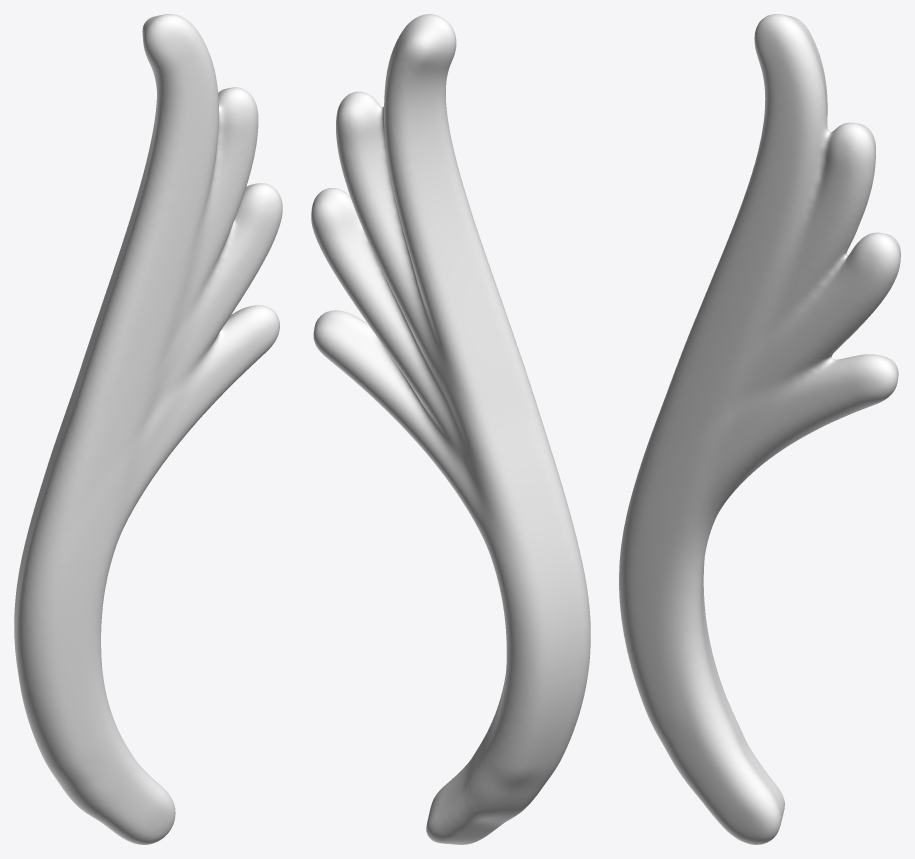
The model's file is callout leaf top.glb.
The picture shows the model from 3 angles, left to right: view 1: azimuth 30°, elevation 25°; view 2: azimuth 150°, elevation 25°; view 3: azimuth 330°, elevation 25°; orthographic projection.
Visible parts, largest first — view 1: Announcement Area; view 2: Announcement Area; view 3: Announcement Area.
Boxes of the visible parts, x1,y1,x2,y2 form: Announcement Area: [14, 14, 282, 844]; Announcement Area: [311, 14, 590, 844]; Announcement Area: [619, 14, 900, 844].
Size of the model in its own units: 46.98 by 138 by 13.35.
1 material, 1 textured.
